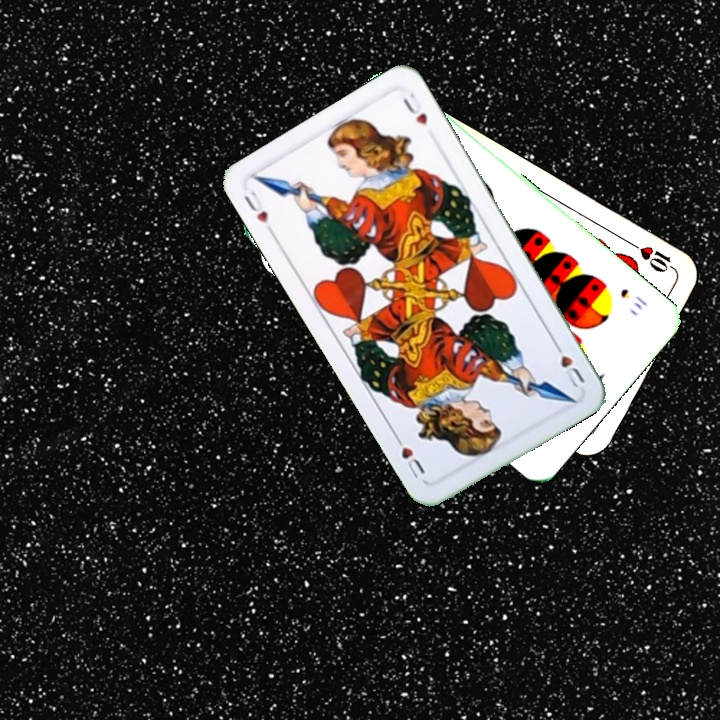H10: (626, 238, 680, 275)
HU: (549, 336, 587, 392), (240, 187, 271, 227)
S10: (616, 284, 650, 313)
